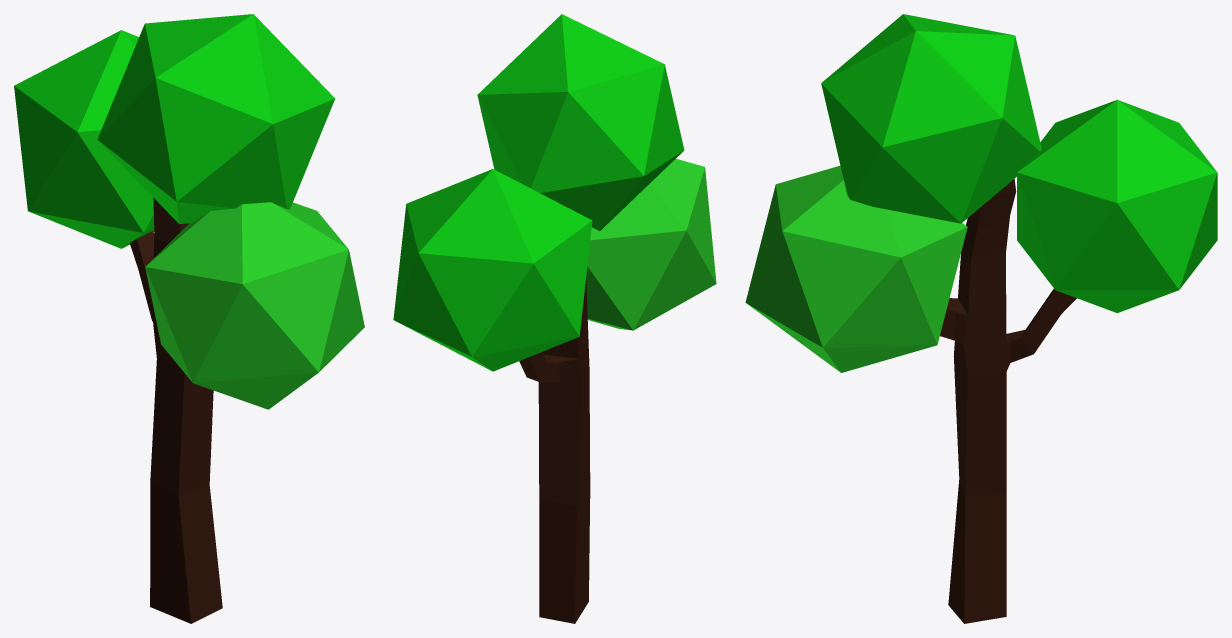
The model's file is livingtreeplain2noelle.obj.
The picture shows the model from 3 angles, left to right: view 1: azimuth 30°, elevation 25°; view 2: azimuth 150°, elevation 25°; view 3: azimuth 270°, elevation 25°; orthographic projection. The views are drawn at different scales.
Visible parts, largest first — view 1: Cube.005; view 2: Cube.005; view 3: Cube.005.
Boxes of the visible parts, <box> form: Cube.005: <box>14,14,364,623</box>; Cube.005: <box>393,14,716,623</box>; Cube.005: <box>745,14,1217,623</box>.
Size of the model in its own units: 0.8401 by 2.62 by 1.88.
